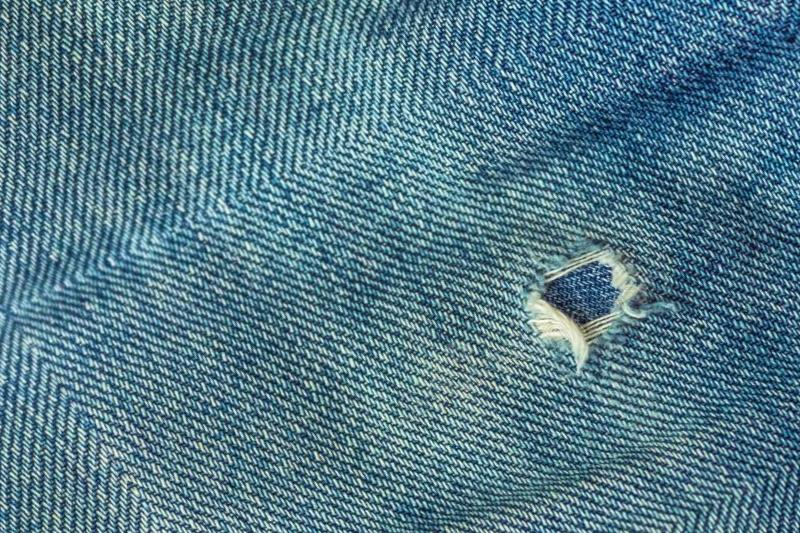hole: (518, 247, 652, 347)
